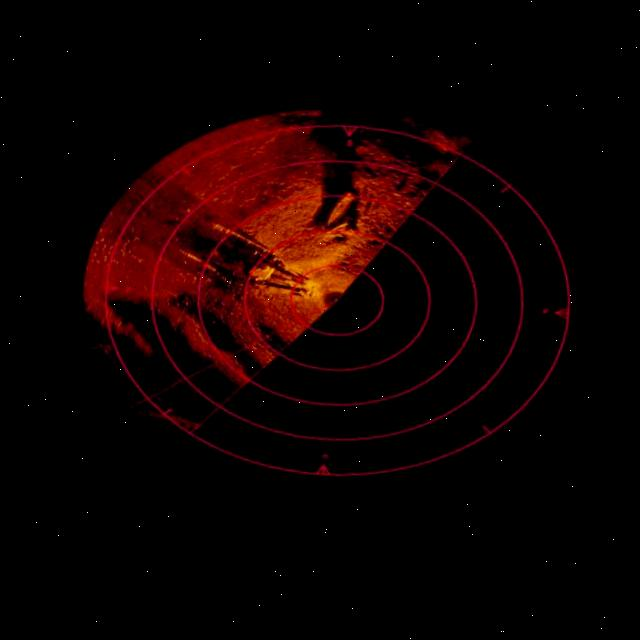shipwreck: (168, 209, 330, 311)
